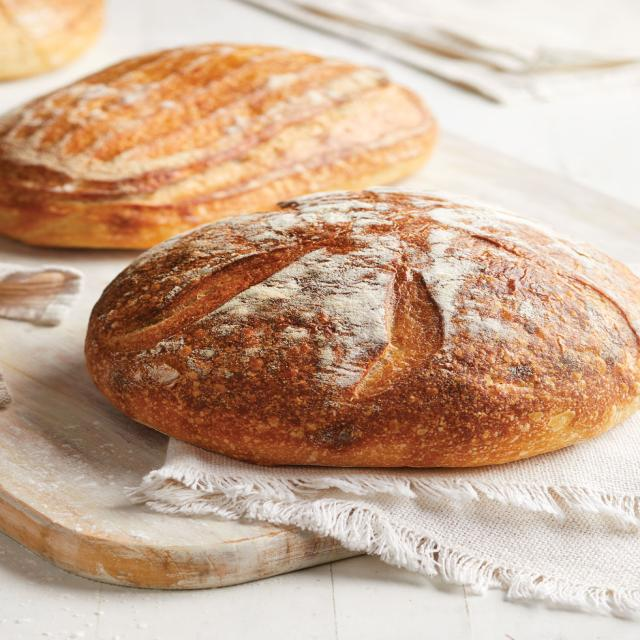Maltese-Bread: (85, 191, 639, 467), (0, 44, 437, 250)
